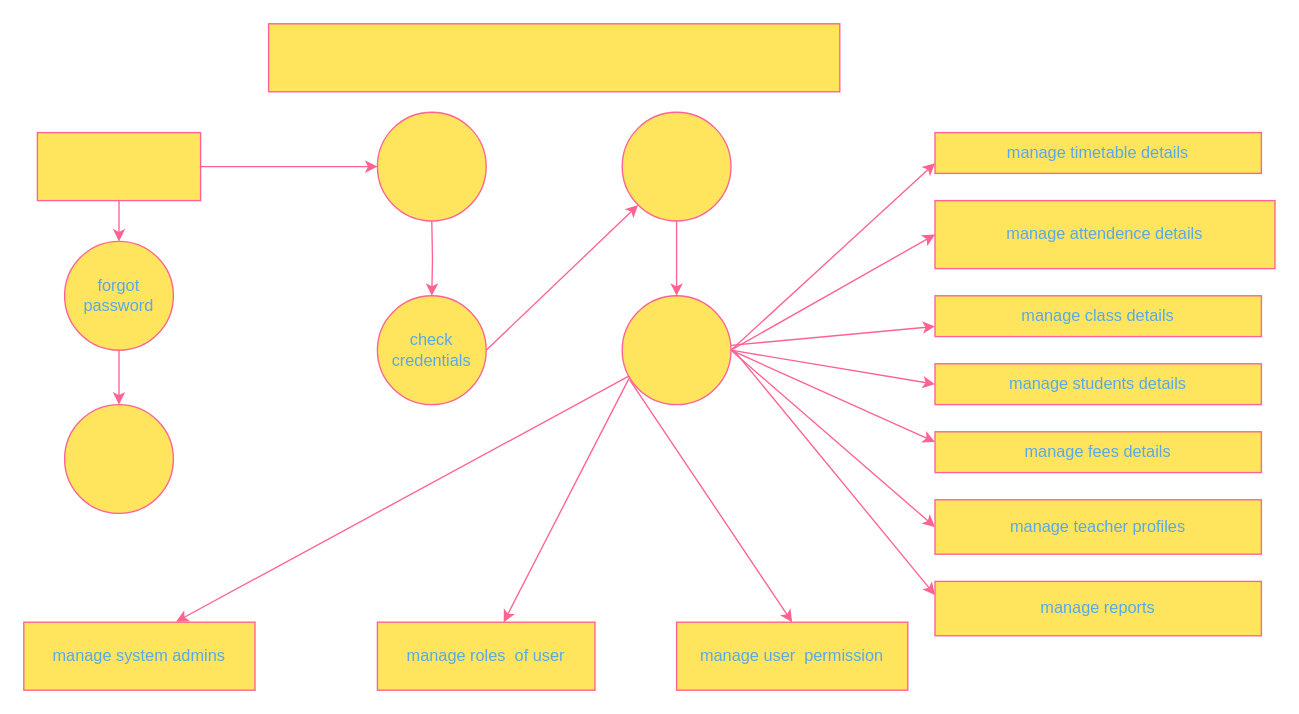
Image size: 1299x714. Some labels were removed from this diagram. The shapes that lost their labels are listed below. From the top down, each one's box as (x1, y1, x2, y2) in pixels, then its label:
(267, 22, 840, 92): student information system
(36, 131, 201, 201): admin
(376, 111, 486, 221): login to system
(621, 111, 731, 221): check roles of access
(621, 294, 731, 405): manage modules
(63, 403, 173, 513): send email to user
